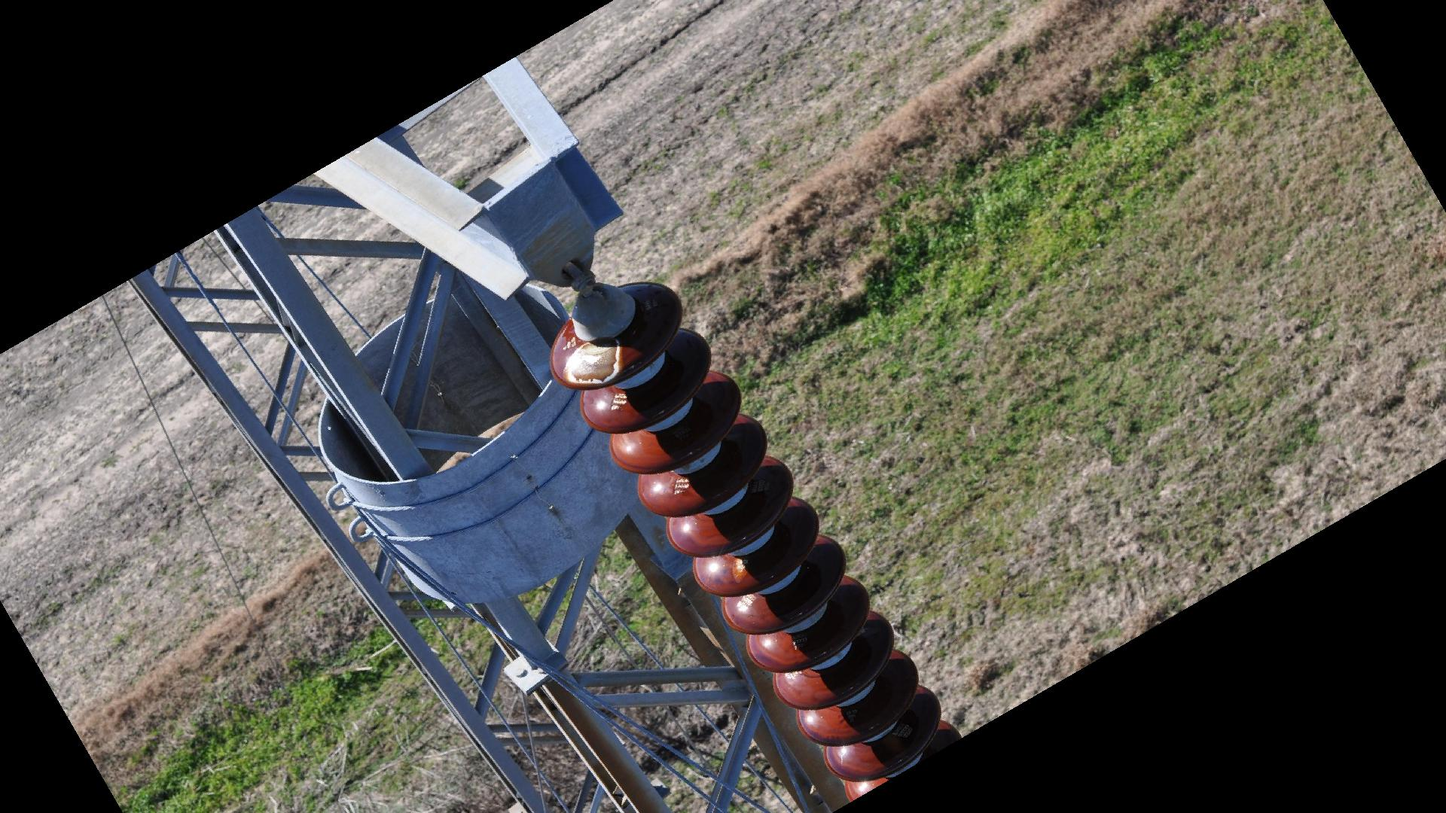insulator: (545, 276, 969, 811)
insulator_flashover: (560, 336, 627, 392)
